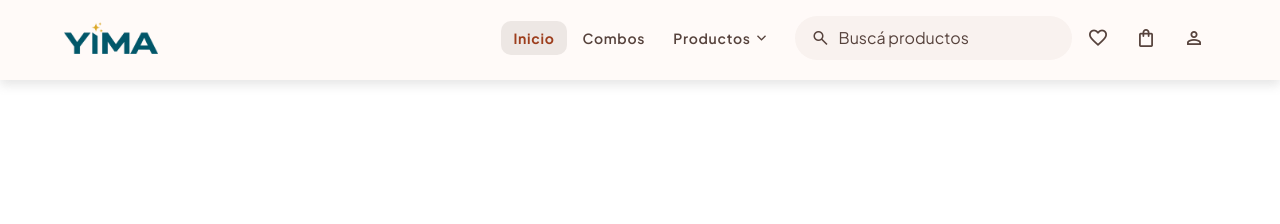
Test case: Navbar - dropdown de categorías › navegar a otra ruta cierra el panel
Click the button "Productos".
click(720, 38)  # box [661, 21, 779, 55]
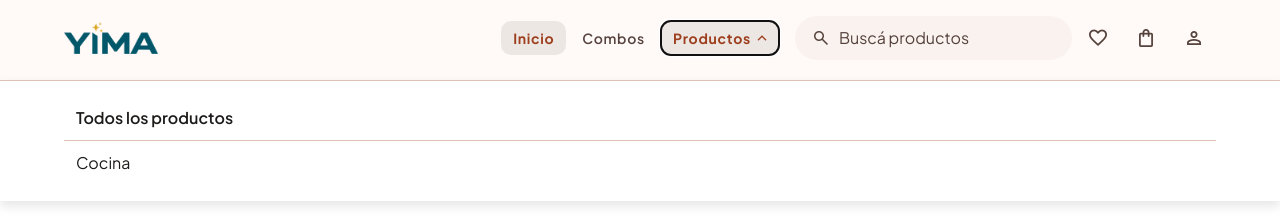
Click the link "Todos los productos".
click(155, 118)  # box [64, 97, 1216, 141]
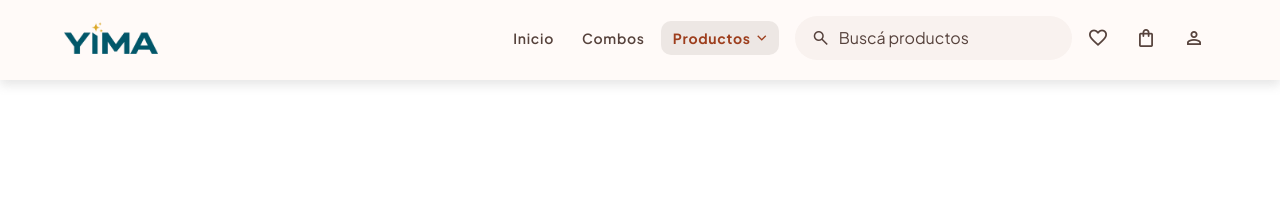
Expected: the button "Productos" is collapsed, [661, 21, 779, 55]
